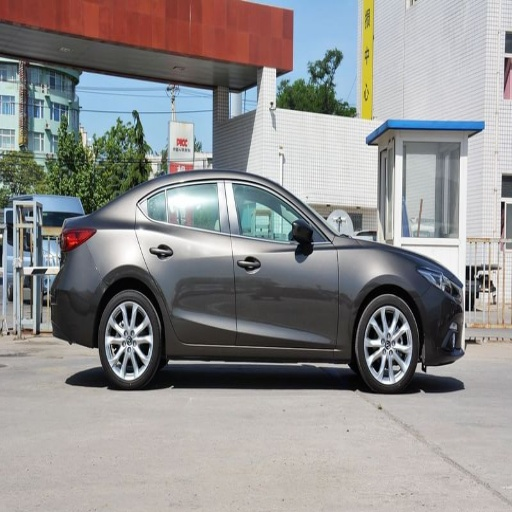_background_: (54, 279, 101, 338)
back_left_light: (136, 180, 235, 347)
back_right_door: (61, 226, 95, 252)
front_left_light: (228, 179, 338, 347)
front_right_door: (421, 265, 462, 293)
trunk: (99, 289, 164, 388), (355, 295, 420, 392)
